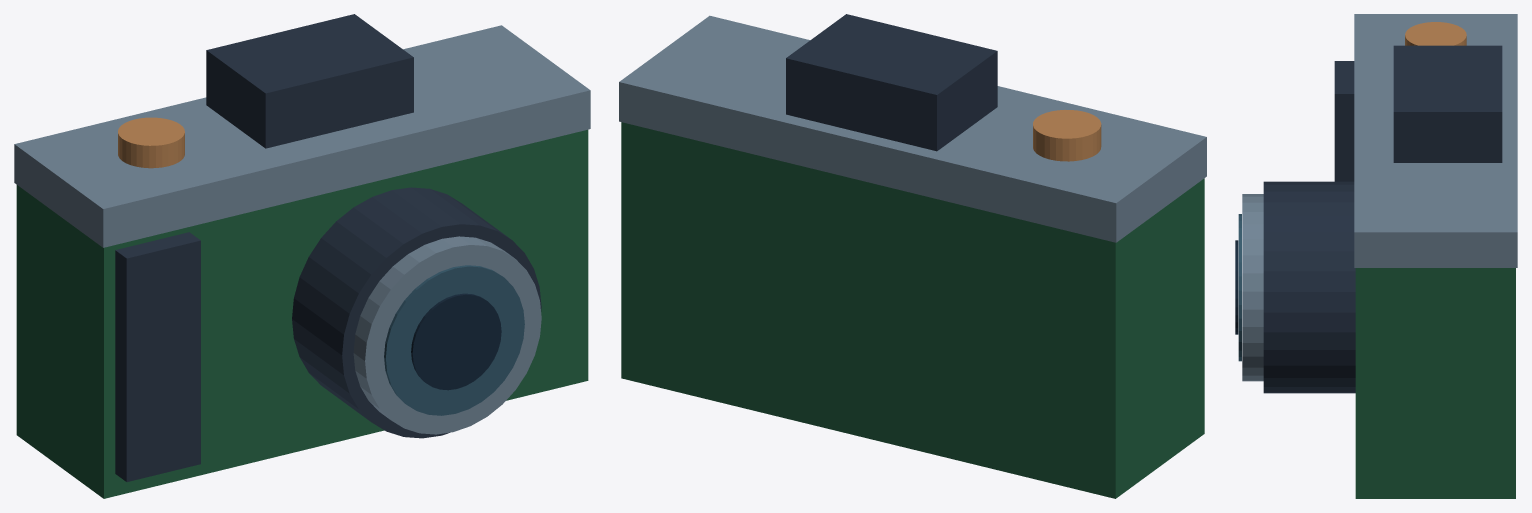
Rendered from camera.glb.
3 views of the same model, side by side, from view 1: azimuth 30°, elevation 25°; view 2: azimuth 150°, elevation 25°; view 3: azimuth 270°, elevation 25° (orthographic). The views are drawn at different scales.
Parts seen in each view (by area): view 1: body, silver top, viewfinder, grip, lens barrel, lens ring, lens face, inner glass, shutter; view 2: body, silver top, viewfinder, shutter; view 3: body, silver top, lens barrel, viewfinder, lens ring, grip, shutter, lens face, inner glass.
Boxes of the visible parts, x1,y1,x2,y2 form: body: (16,129,588,498); silver top: (14,25,590,247); viewfinder: (206,14,413,148); grip: (115,232,200,481); lens barrel: (292,187,541,438); lens ring: (353,236,541,434); lens face: (384,265,524,415); inner glass: (411,293,501,390); shutter: (118,117,184,168); body: (621,122,1204,498); silver top: (619,15,1206,242); viewfinder: (786,14,997,151); shutter: (1033,109,1101,161); body: (1355,268,1515,498); silver top: (1354,14,1517,267); lens barrel: (1263,181,1355,393); viewfinder: (1393,45,1502,162); lens ring: (1242,194,1263,381); grip: (1334,61,1354,181); shutter: (1405,22,1466,45); lens face: (1238,214,1241,361); inner glass: (1235,240,1238,334).
Size of the model in its own units: 1.71 by 1.16 by 0.933.
